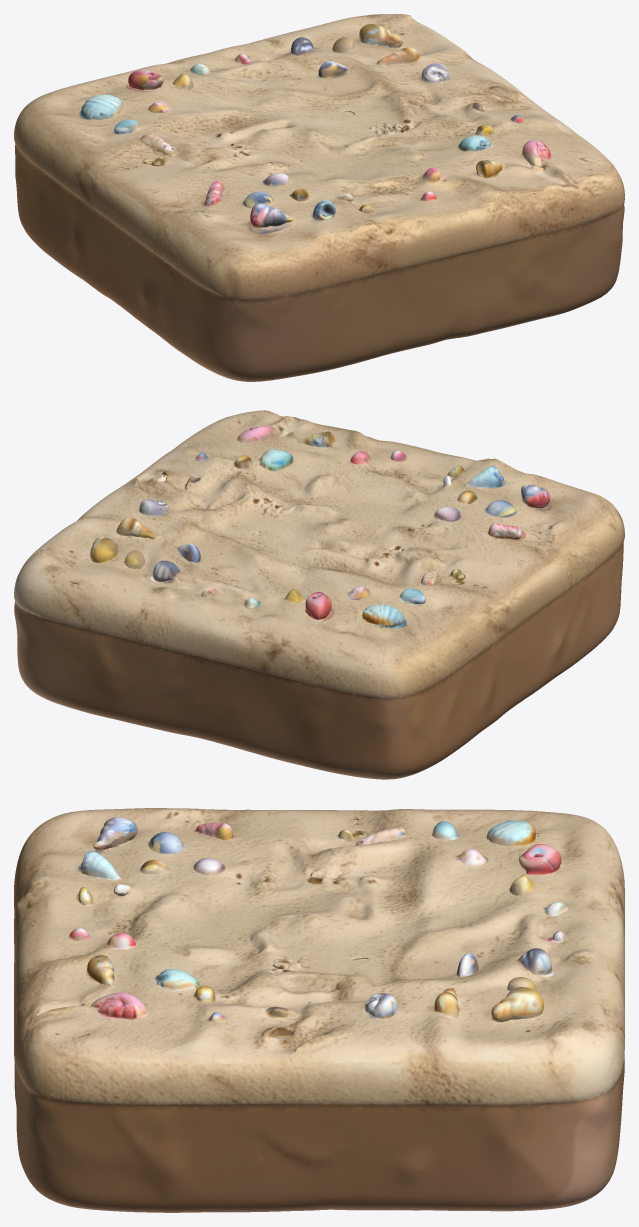
The model's file is ter_sand_tile_01.glb.
3 renders of one model, top to bottom at view 1: azimuth 30°, elevation 25°; view 2: azimuth 150°, elevation 25°; view 3: azimuth 270°, elevation 25°, orthographic. The views are drawn at different scales.
Visible parts, largest first — view 1: geometry_0; view 2: geometry_0; view 3: geometry_0.
Part boxes in pixels (<box>): geometry_0: <box>14,14,624,381</box>; geometry_0: <box>14,410,624,779</box>; geometry_0: <box>14,808,624,1212</box>.
Bounding box in the file's own units: 0.3 × 0.1081 × 0.3.
1 material, 1 textured.
